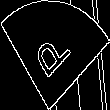P_SW: (32, 25, 78, 85)
